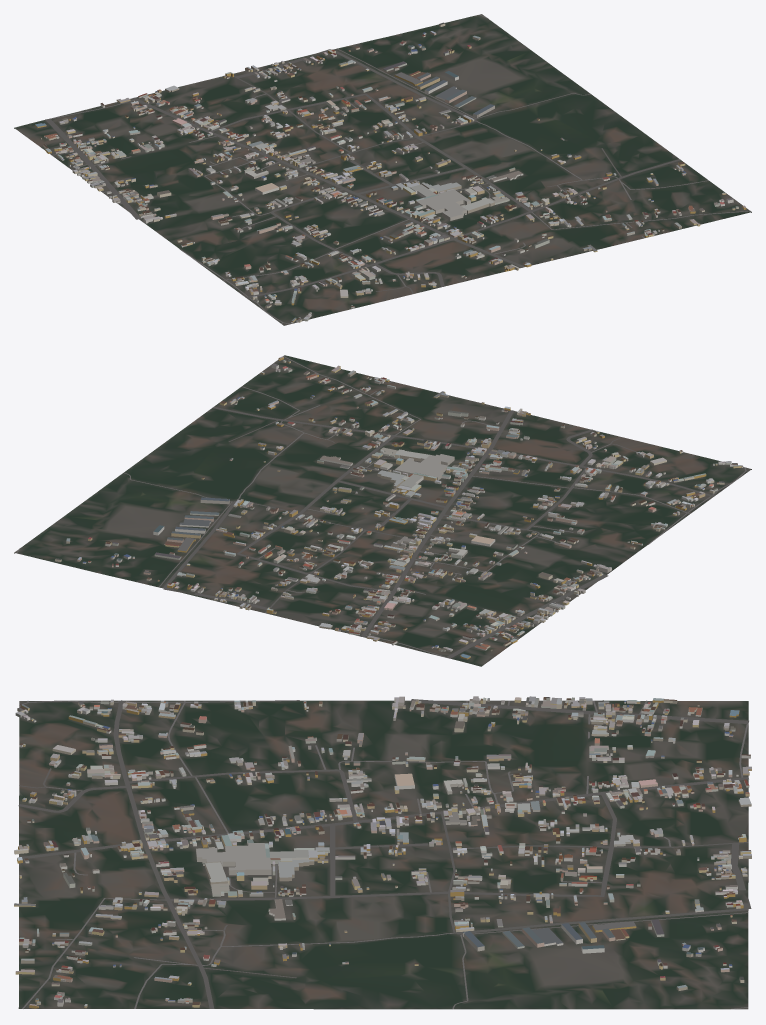
The picture shows the model from 3 angles, top to bottom: view 1: azimuth 30°, elevation 25°; view 2: azimuth 150°, elevation 25°; view 3: azimuth 270°, elevation 25°; orthographic projection. The views are drawn at different scales.
Visible parts, largest first — view 1: ground, buildings, roads; view 2: ground, buildings, roads; view 3: ground, buildings, roads.
Boxes of the visible parts, bbox=[...] form: ground: bbox=[14, 14, 751, 325]; buildings: bbox=[35, 22, 746, 323]; roads: bbox=[45, 14, 750, 324]; ground: bbox=[14, 355, 751, 666]; buildings: bbox=[55, 356, 743, 659]; roads: bbox=[16, 356, 748, 658]; ground: bbox=[18, 700, 748, 1009]; buildings: bbox=[14, 696, 751, 1008]; roads: bbox=[18, 699, 751, 1009].
Size of the model in its own units: 1409 by 17.37 by 1417.
